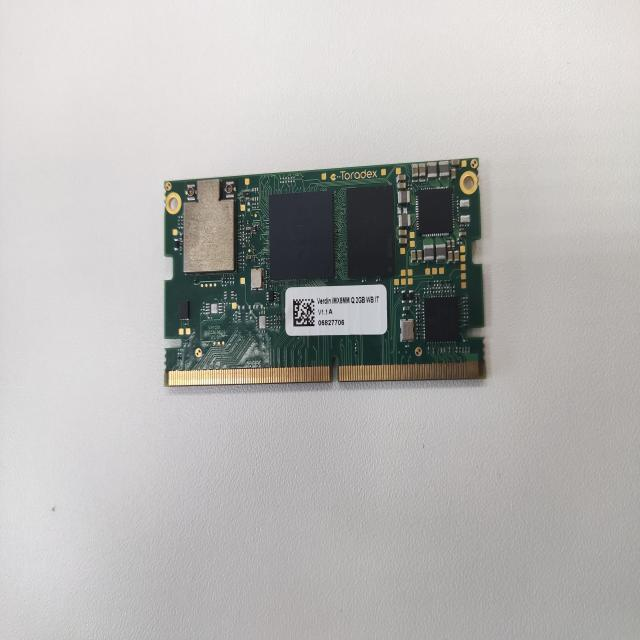som: (159, 153, 490, 395)
